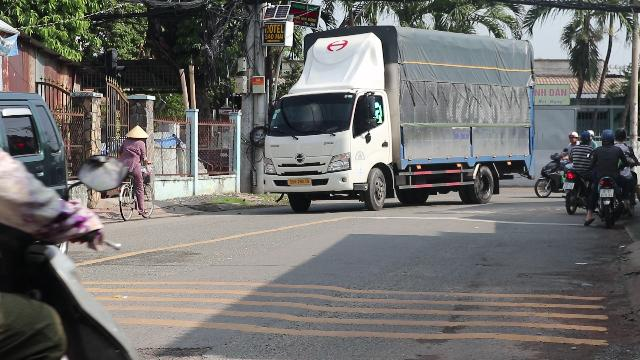helmet: (600, 130, 616, 146)
licenseplate: (600, 189, 612, 197)
motorcyclist: (588, 128, 638, 228)
